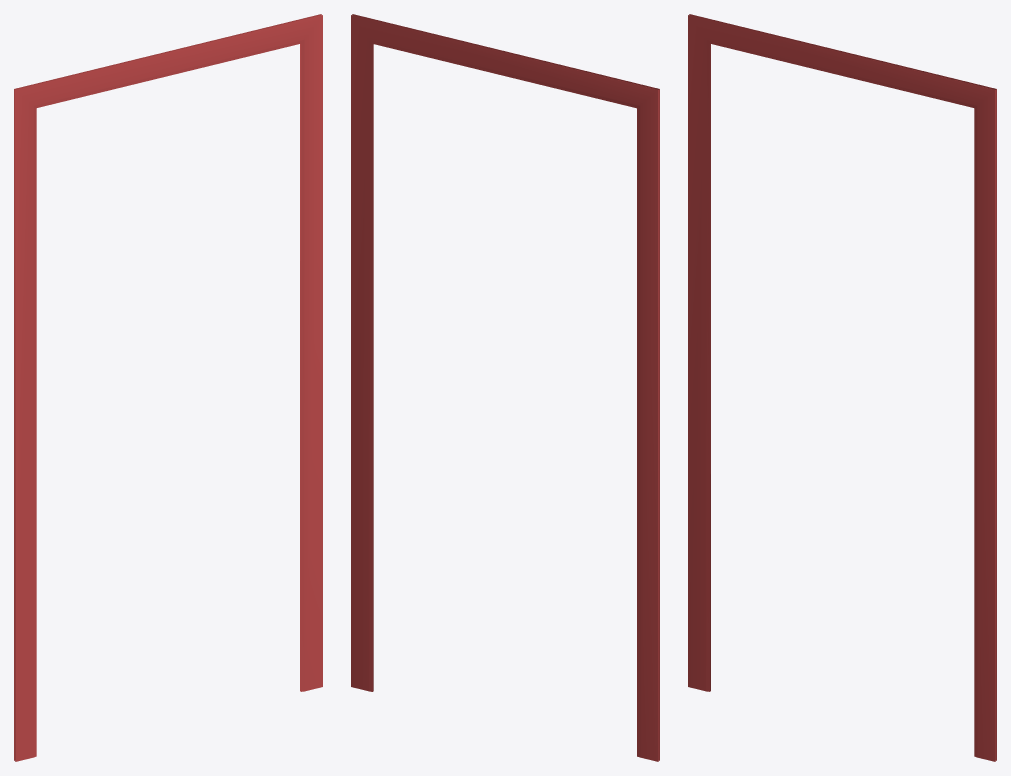
Rendered from door_panel.obj.
3 views of the same model, side by side, from view 1: azimuth 30°, elevation 25°; view 2: azimuth 150°, elevation 25°; view 3: azimuth 330°, elevation 25° (orthographic).
Parts seen in each view (by area): view 1: Door_Panel001; view 2: Door_Panel001; view 3: Door_Panel001.
Boxes of the visible parts, bbox=[...] form: Door_Panel001: bbox=[14, 14, 322, 761]; Door_Panel001: bbox=[351, 14, 659, 761]; Door_Panel001: bbox=[688, 14, 996, 761].
Size of the model in its own units: 1.69 by 3.52 by 0.0142.
